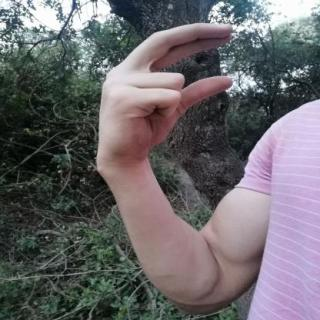DHELL: (89, 15, 248, 170)
